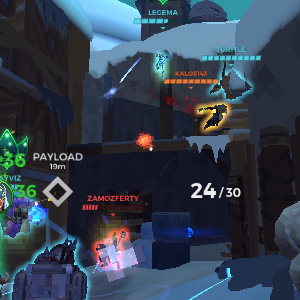model: (92, 224, 131, 274), (197, 99, 229, 131)
